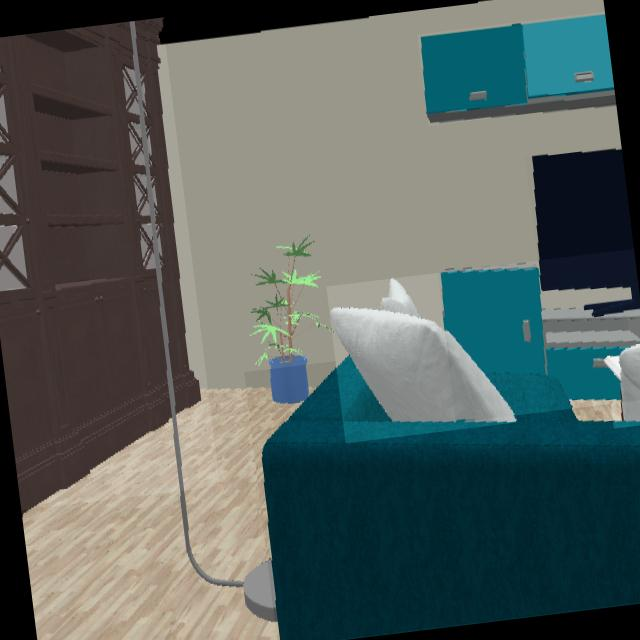bookshelf: (0, 17, 198, 510)
cabinet: (442, 265, 640, 402), (421, 11, 616, 123)
monitor: (532, 149, 640, 319)
pillow: (330, 278, 516, 422), (606, 345, 640, 423)
sofa: (262, 360, 640, 640)
